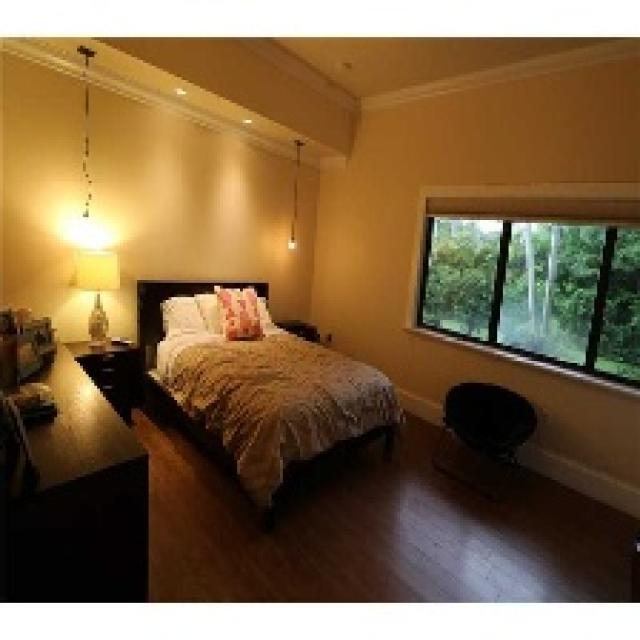Bed: (134, 277, 403, 529)
